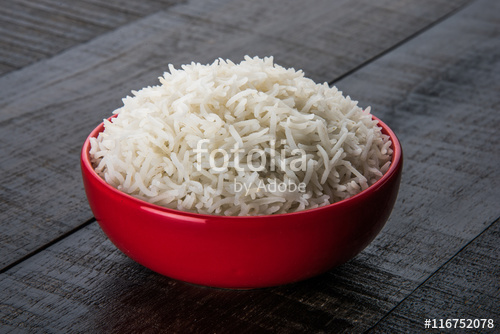plain rice: (92, 42, 397, 225)
